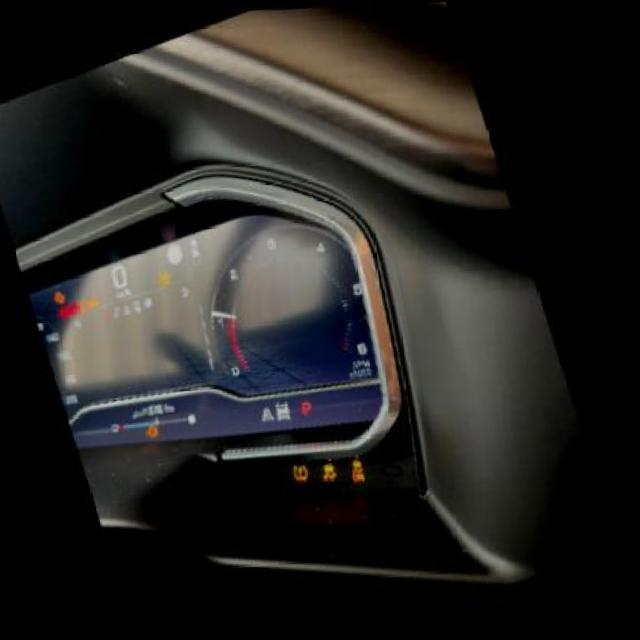Low fuel level: (153, 422, 166, 436)
